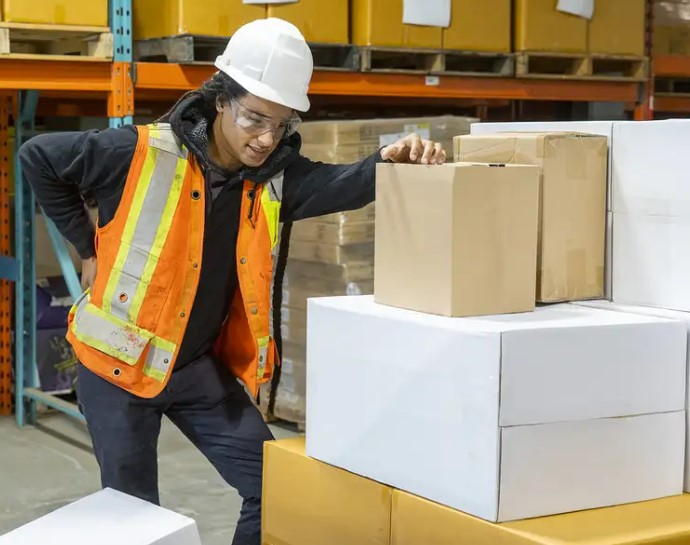stock: (375, 162, 540, 318)
worker: (67, 18, 309, 403)
